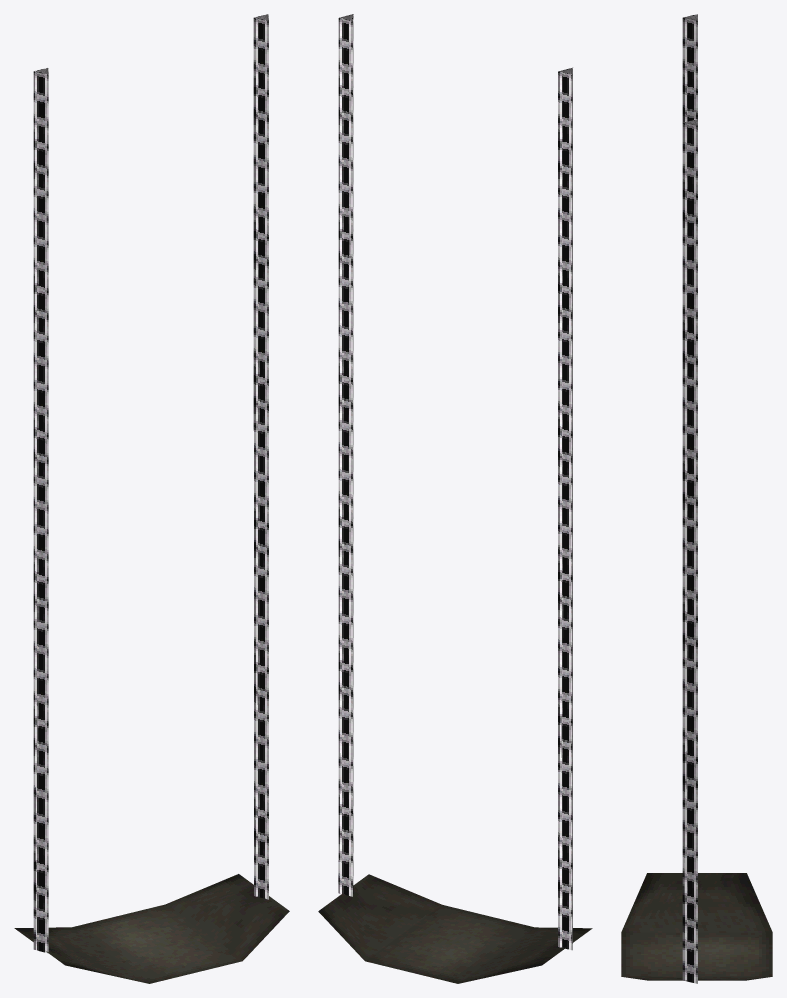
Rendered from Swing01.glb.
3 views of the same model, side by side, from view 1: azimuth 30°, elevation 25°; view 2: azimuth 150°, elevation 25°; view 3: azimuth 270°, elevation 25° (orthographic). The views are drawn at different scales.
Visible parts, largest first — view 1: Swing01; view 2: Swing01; view 3: Swing01.
Part boxes in pixels (<box>): Swing01: <box>14,14,289,983</box>; Swing01: <box>318,14,592,983</box>; Swing01: <box>621,14,772,983</box>.
Bounding box in the file's own units: 189 × 695 × 108.
1 material, 1 textured.
